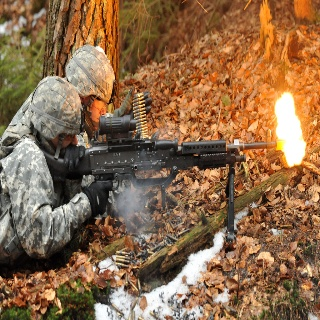rifle: (37, 112, 285, 191)
